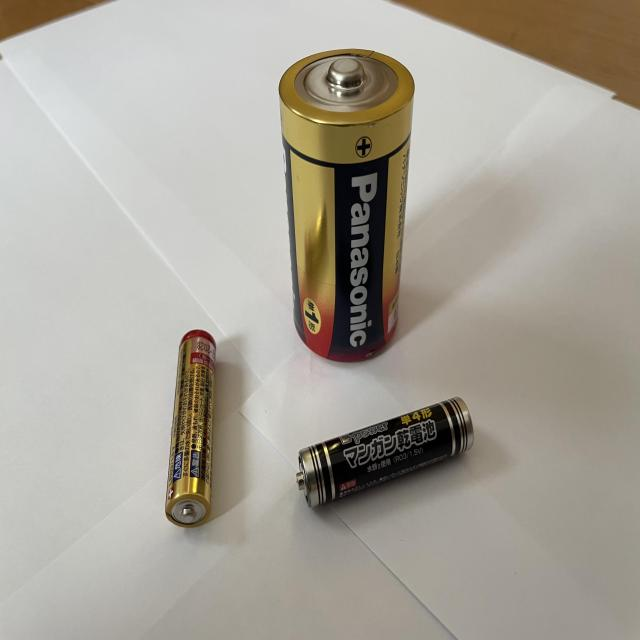AAA: (294, 398, 475, 511), (164, 328, 217, 531)
